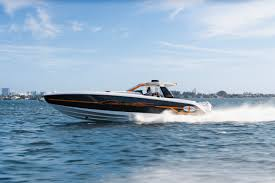boat: (42, 78, 213, 124)
